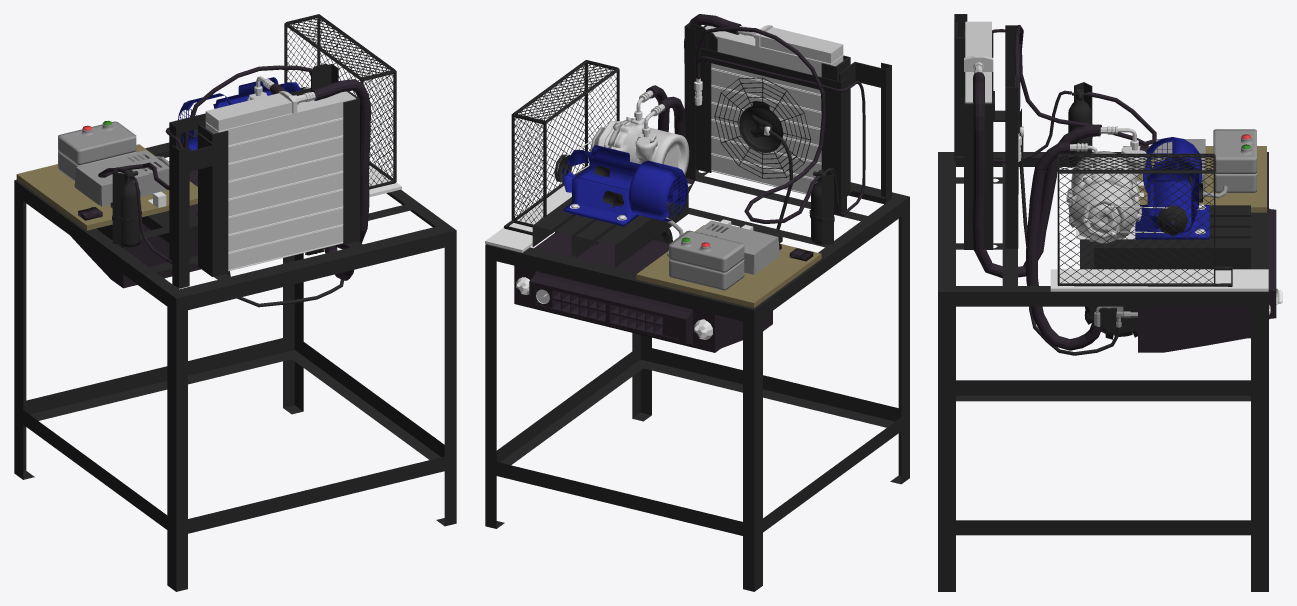
3 views of the same model, side by side, from view 1: azimuth 30°, elevation 25°; view 2: azimuth 150°, elevation 25°; view 3: azimuth 270°, elevation 25° (orthographic). The views are drawn at different scales.
Visible parts, largest first — view 1: 3.jpg, fan cooler, 3 palang.002, papan, Plane.015, Plane.022, Plane.035, Plane.046, Cube, Plane.009, Plane.003, Plane.007 (+14 smaller); view 2: 3.jpg, Cube, 3 palang.002, Plane.024, 3.jpg.001, papan, fan cooler, Cylinder, Plane.051, Plane.047, Plane.022, Circle (+21 smaller); view 3: 3.jpg, 3.jpg.001, Cube, Plane.051, Cube.009, 3 palang.002, Plane.024, Plane.035, Plane.036, fan cooler, Plane.047, Cylinder (+16 smaller).
Part boxes in pixels (box(x1,y1,x2,y2)): 3.jpg: box(14, 142, 456, 591); fan cooler: box(198, 91, 359, 276); 3 palang.002: box(112, 64, 338, 288); papan: box(16, 144, 197, 230); Plane.015: box(205, 91, 356, 145); Plane.022: box(58, 121, 136, 165); Plane.035: box(269, 79, 370, 249); Plane.046: box(205, 91, 315, 130); Cube: box(70, 161, 200, 288); Plane.009: box(228, 154, 343, 198); Plane.003: box(228, 208, 343, 251); Plane.007: box(228, 172, 343, 216); 3.jpg: box(485, 169, 909, 591); Cube: box(514, 232, 772, 352); 3 palang.002: box(684, 22, 891, 244); Plane.024: box(563, 145, 687, 226); 3.jpg.001: box(532, 191, 688, 267); papan: box(636, 225, 821, 307); fan cooler: box(695, 25, 850, 196); Cylinder: box(604, 117, 689, 175); Plane.051: box(514, 65, 586, 216); Plane.047: box(503, 61, 619, 235); Plane.022: box(669, 230, 744, 272); Circle: box(714, 77, 810, 178); 3.jpg: box(938, 152, 1268, 591); 3.jpg.001: box(1094, 205, 1250, 269); Cube: box(1138, 208, 1276, 352); Plane.051: box(1059, 173, 1213, 283); Cube.009: box(1050, 269, 1268, 291); 3 palang.002: box(954, 14, 1092, 248); Plane.024: box(1135, 137, 1209, 239); Plane.035: box(972, 72, 1101, 278); Plane.036: box(1026, 141, 1102, 350); fan cooler: box(964, 30, 993, 249); Plane.047: box(1058, 154, 1232, 286); Cylinder: box(1066, 151, 1147, 241).
Bounding box in the file's own units: 8.93 × 14.2 × 9.29.
